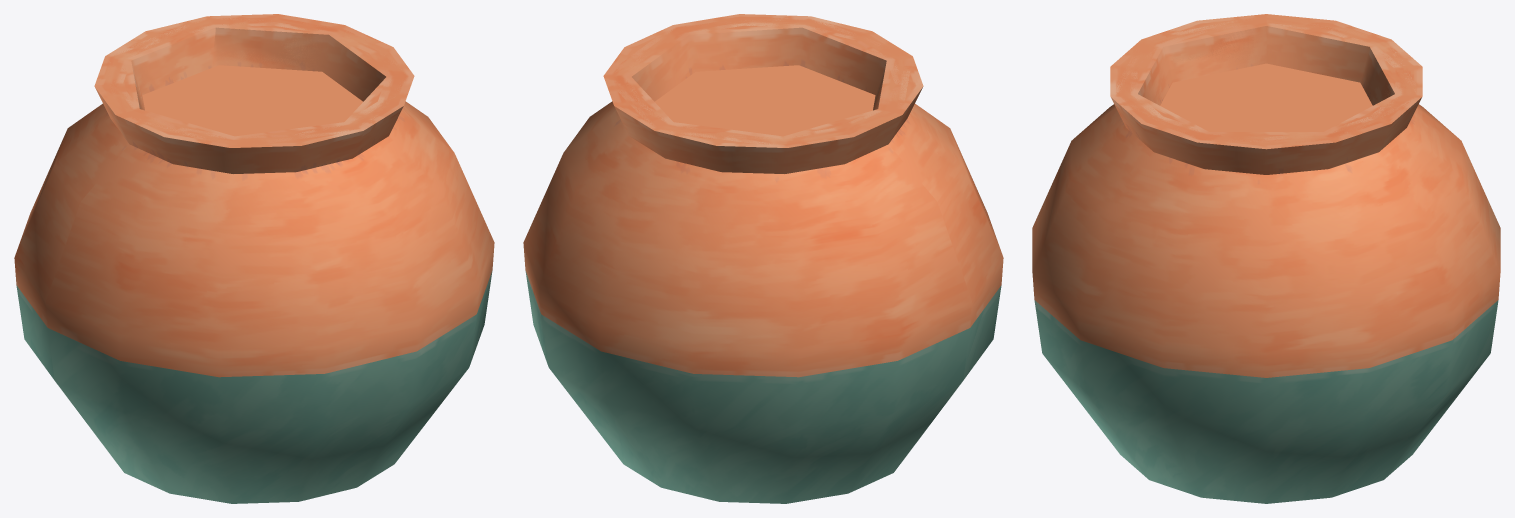
The model's file is pot_round.bundle.fbx.
3 views of the same model, side by side, from view 1: azimuth 30°, elevation 25°; view 2: azimuth 150°, elevation 25°; view 3: azimuth 270°, elevation 25° (orthographic).
Parts seen in each view (by area): view 1: pot_round, pot_round_low, pot_round_s00, pot_round_s02, pot_round_s04; view 2: pot_round, pot_round_low, pot_round_s00, pot_round_s04, pot_round_s02; view 3: pot_round, pot_round_low, pot_round_s04, pot_round_s00, pot_round_s01, pot_round_s02.
Part boxes in pixels (left/top/right/bottom): pot_round: left=14, top=14, right=494, bottom=503; pot_round_low: left=105, top=16, right=412, bottom=147; pot_round_s00: left=211, top=17, right=362, bottom=133; pot_round_s02: left=139, top=16, right=222, bottom=86; pot_round_s04: left=108, top=48, right=227, bottom=140; pot_round: left=523, top=14, right=1003, bottom=503; pot_round_low: left=605, top=16, right=912, bottom=147; pot_round_s00: left=606, top=17, right=859, bottom=134; pot_round_s04: left=748, top=64, right=910, bottom=147; pot_round_s02: left=651, top=122, right=759, bottom=144; pot_round: left=1032, top=14, right=1500, bottom=503; pot_round_low: left=1111, top=14, right=1421, bottom=142; pot_round_s04: left=1165, top=16, right=1391, bottom=102; pot_round_s00: left=1111, top=66, right=1410, bottom=140; pot_round_s01: left=1119, top=35, right=1188, bottom=99; pot_round_s02: left=1345, top=52, right=1420, bottom=110.
Size of the model in its own units: 2.4 by 2.08 by 2.34.
1 material, 1 textured.
